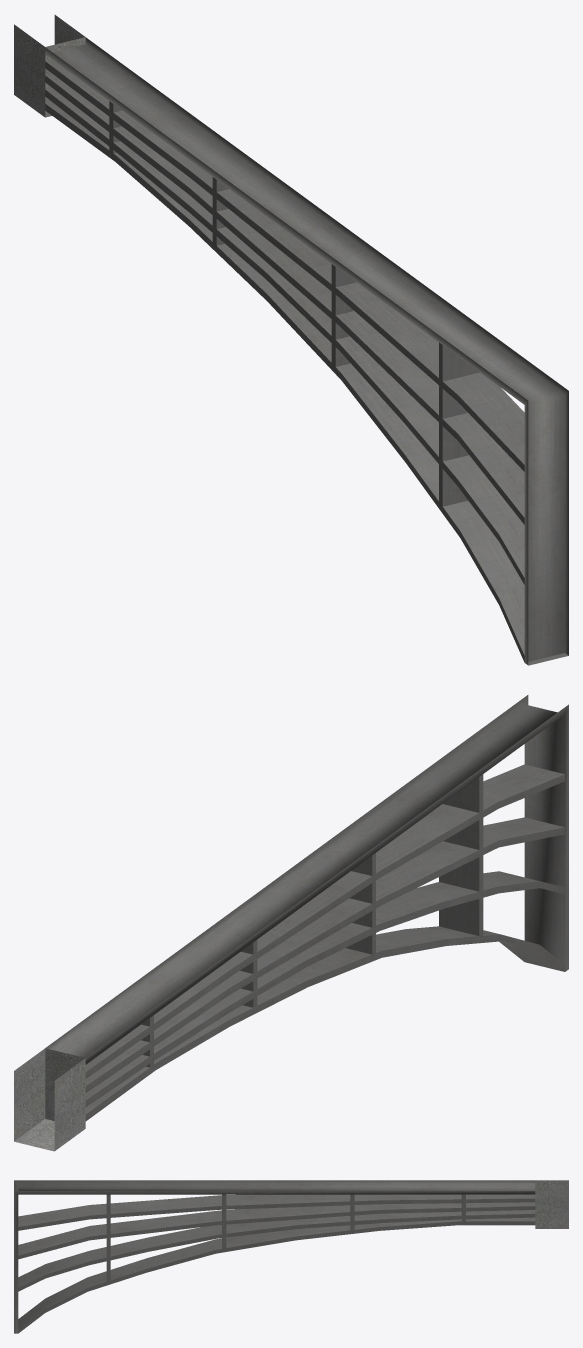
The model's file is nt_2020_vista_bldg_07_support_LOD0.obj.
3 views of the same model, one above another, from view 1: azimuth 30°, elevation 25°; view 2: azimuth 150°, elevation 25°; view 3: azimuth 270°, elevation 25° (orthographic). The views are drawn at different scales.
Parts seen in each view (by area): view 1: metal_stainless_steel_editor, jun_art_concrete_base02; view 2: metal_stainless_steel_editor, jun_art_concrete_base02; view 3: metal_stainless_steel_editor, jun_art_concrete_base02.
Boxes of the visible parts, x1,y1,x2,y2 form: metal_stainless_steel_editor: (45,37,568,665); jun_art_concrete_base02: (14,15,85,117); metal_stainless_steel_editor: (45,695,568,1121); jun_art_concrete_base02: (14,1048,85,1151); metal_stainless_steel_editor: (14,1180,535,1333); jun_art_concrete_base02: (535,1180,568,1228).
Bounding box in the file's own units: 30.48 × 191 × 671.
